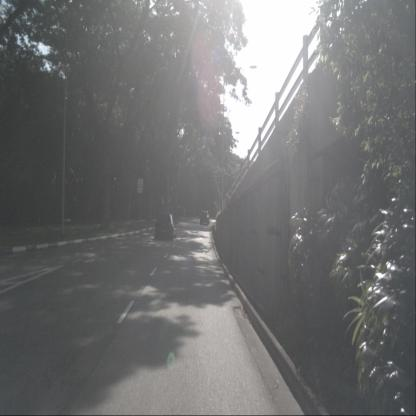human-pedestrian-adult: (125, 196, 130, 222)
vehicle-car: (155, 212, 176, 241), (199, 209, 209, 225)
